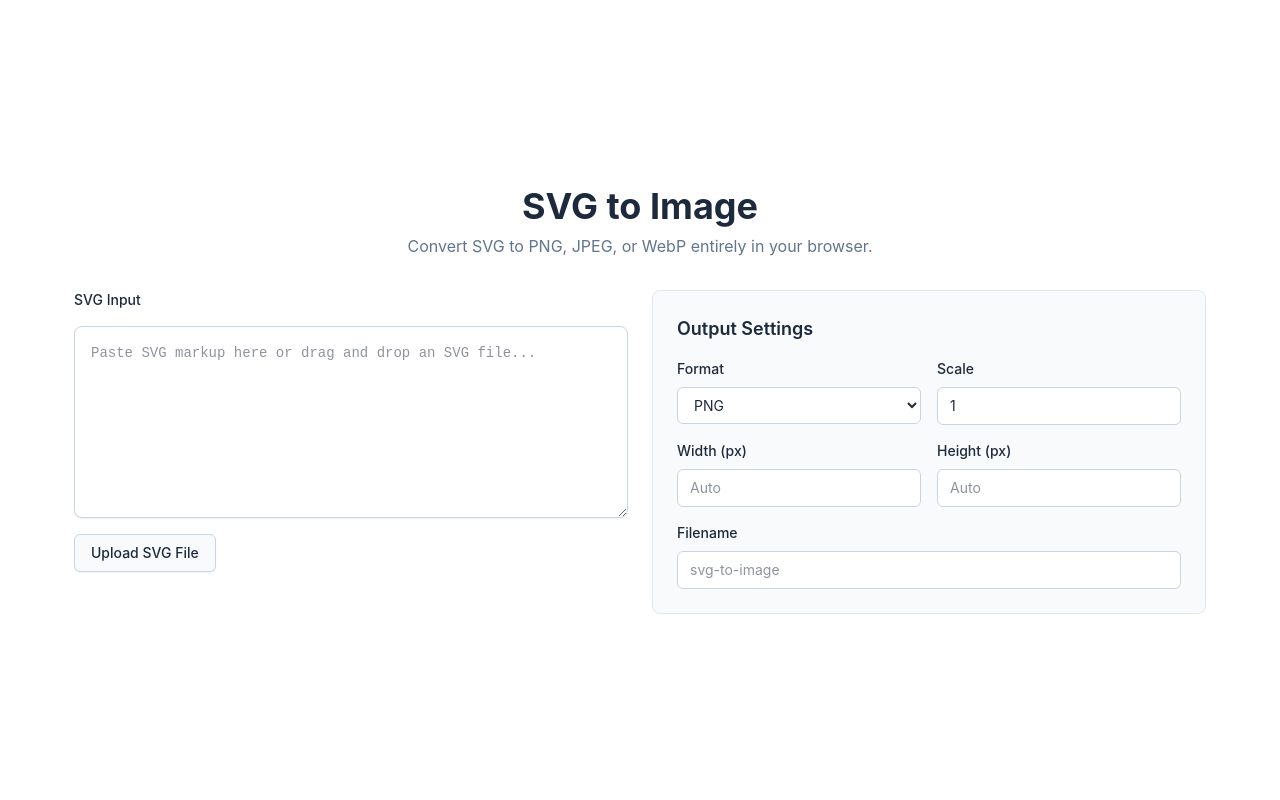
App component › changes output format when the format select changes
Type "<svg xmlns=\"http://www.w3.org/2000/svg\" width=\"100\" height=\"50\"><rect width=\"100\" height=\"50\" fill=\"red\"/></svg>" into the text box labelled "SVG Input" at (351, 422), box [74,326,628,518]
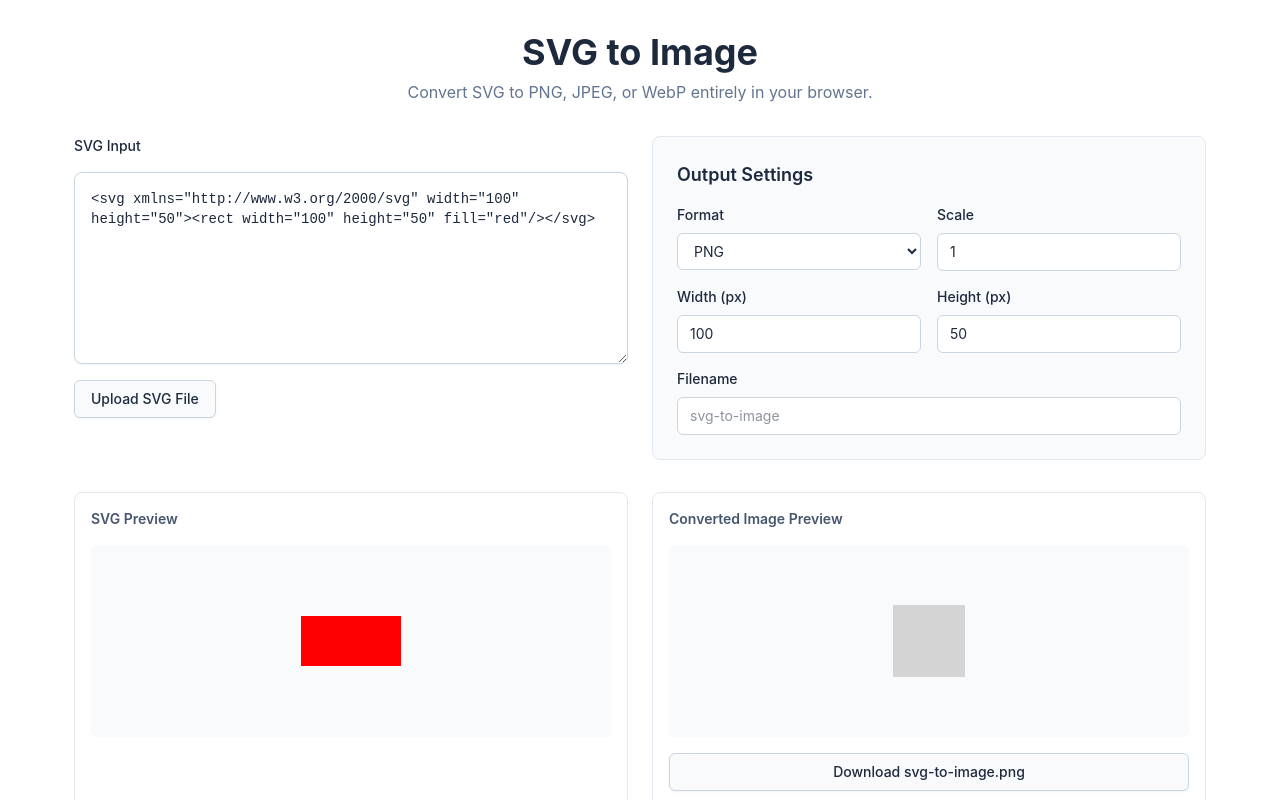
Type "custom" into the field labelled "Filename" at (929, 416), box [677,397,1181,435]
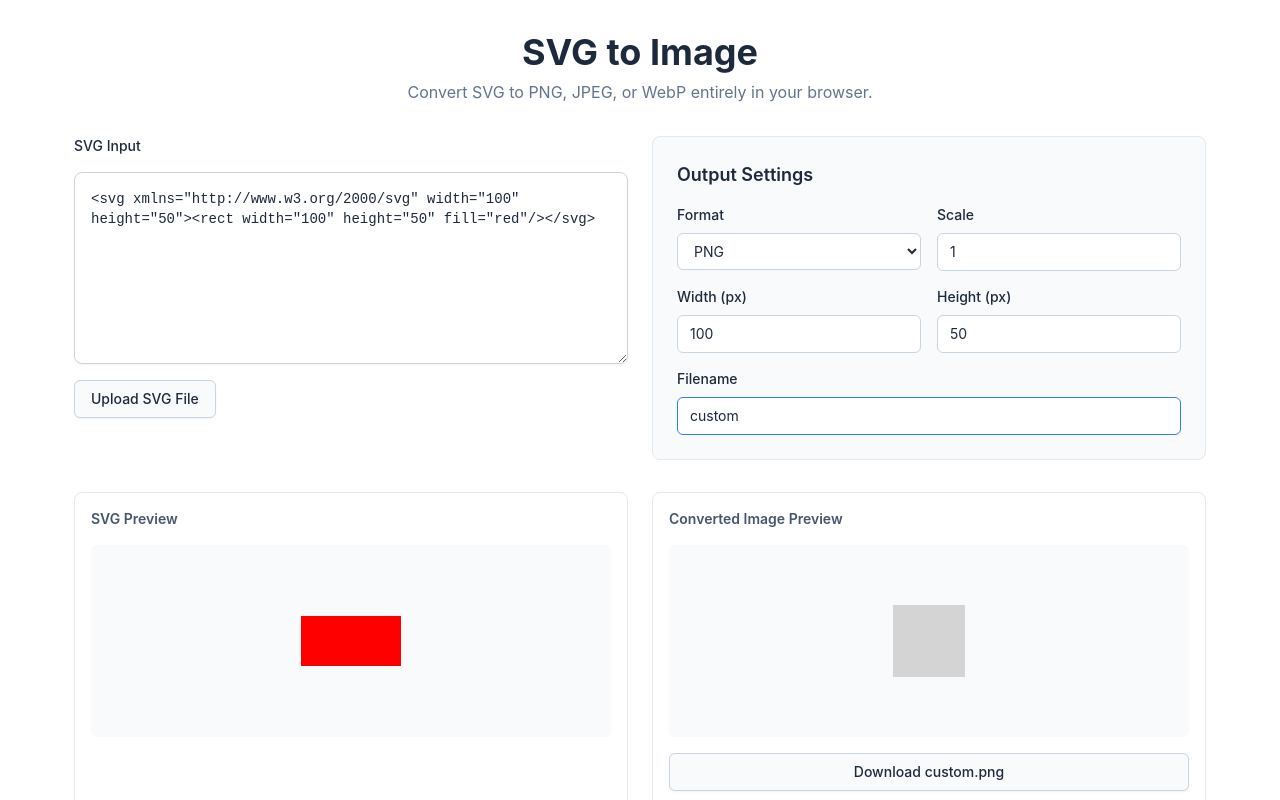
Select "WebP" in the dropdown labelled "Format" at (799, 252), box [677,233,921,270]
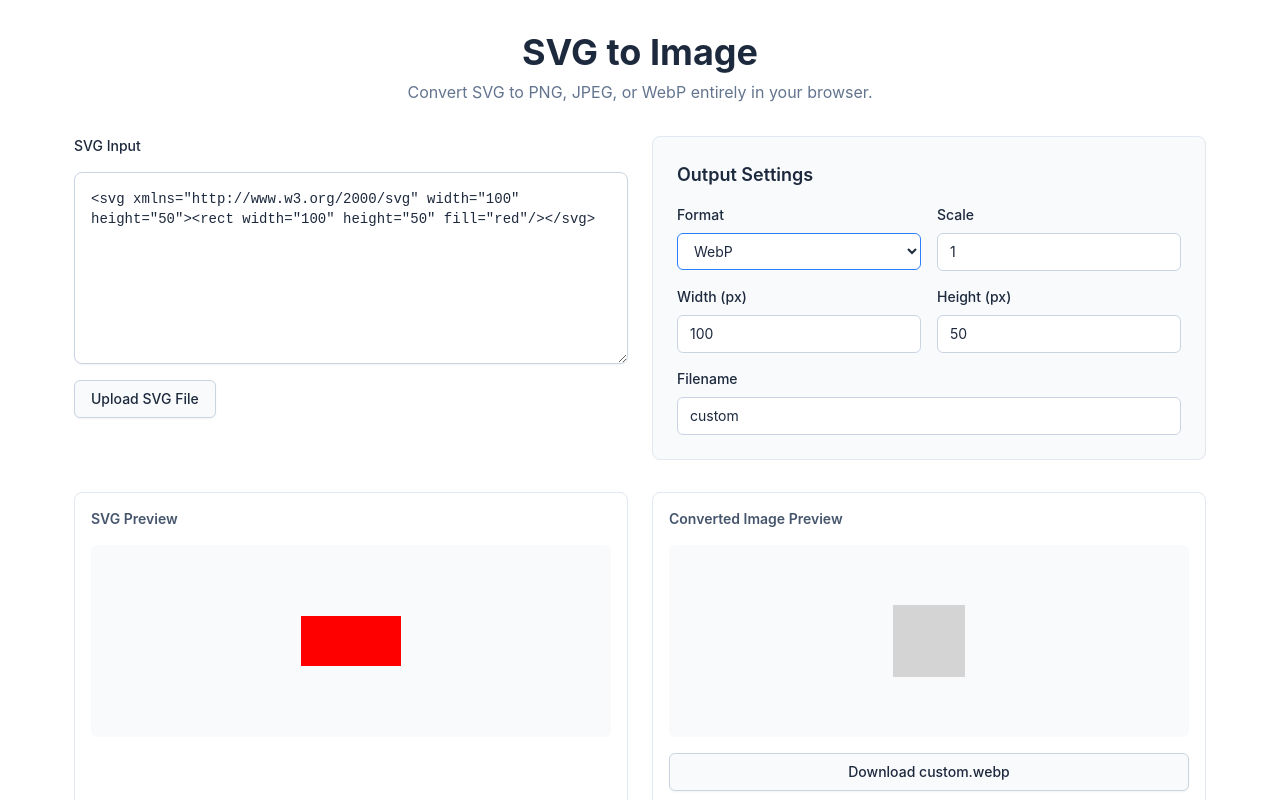
Check: the button "Download custom.webp" is shown, box [669,753,1189,791]
